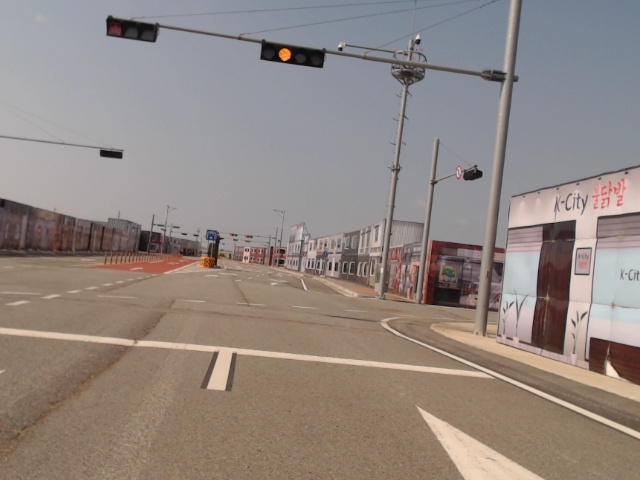orange_4: (260, 40, 324, 69)
